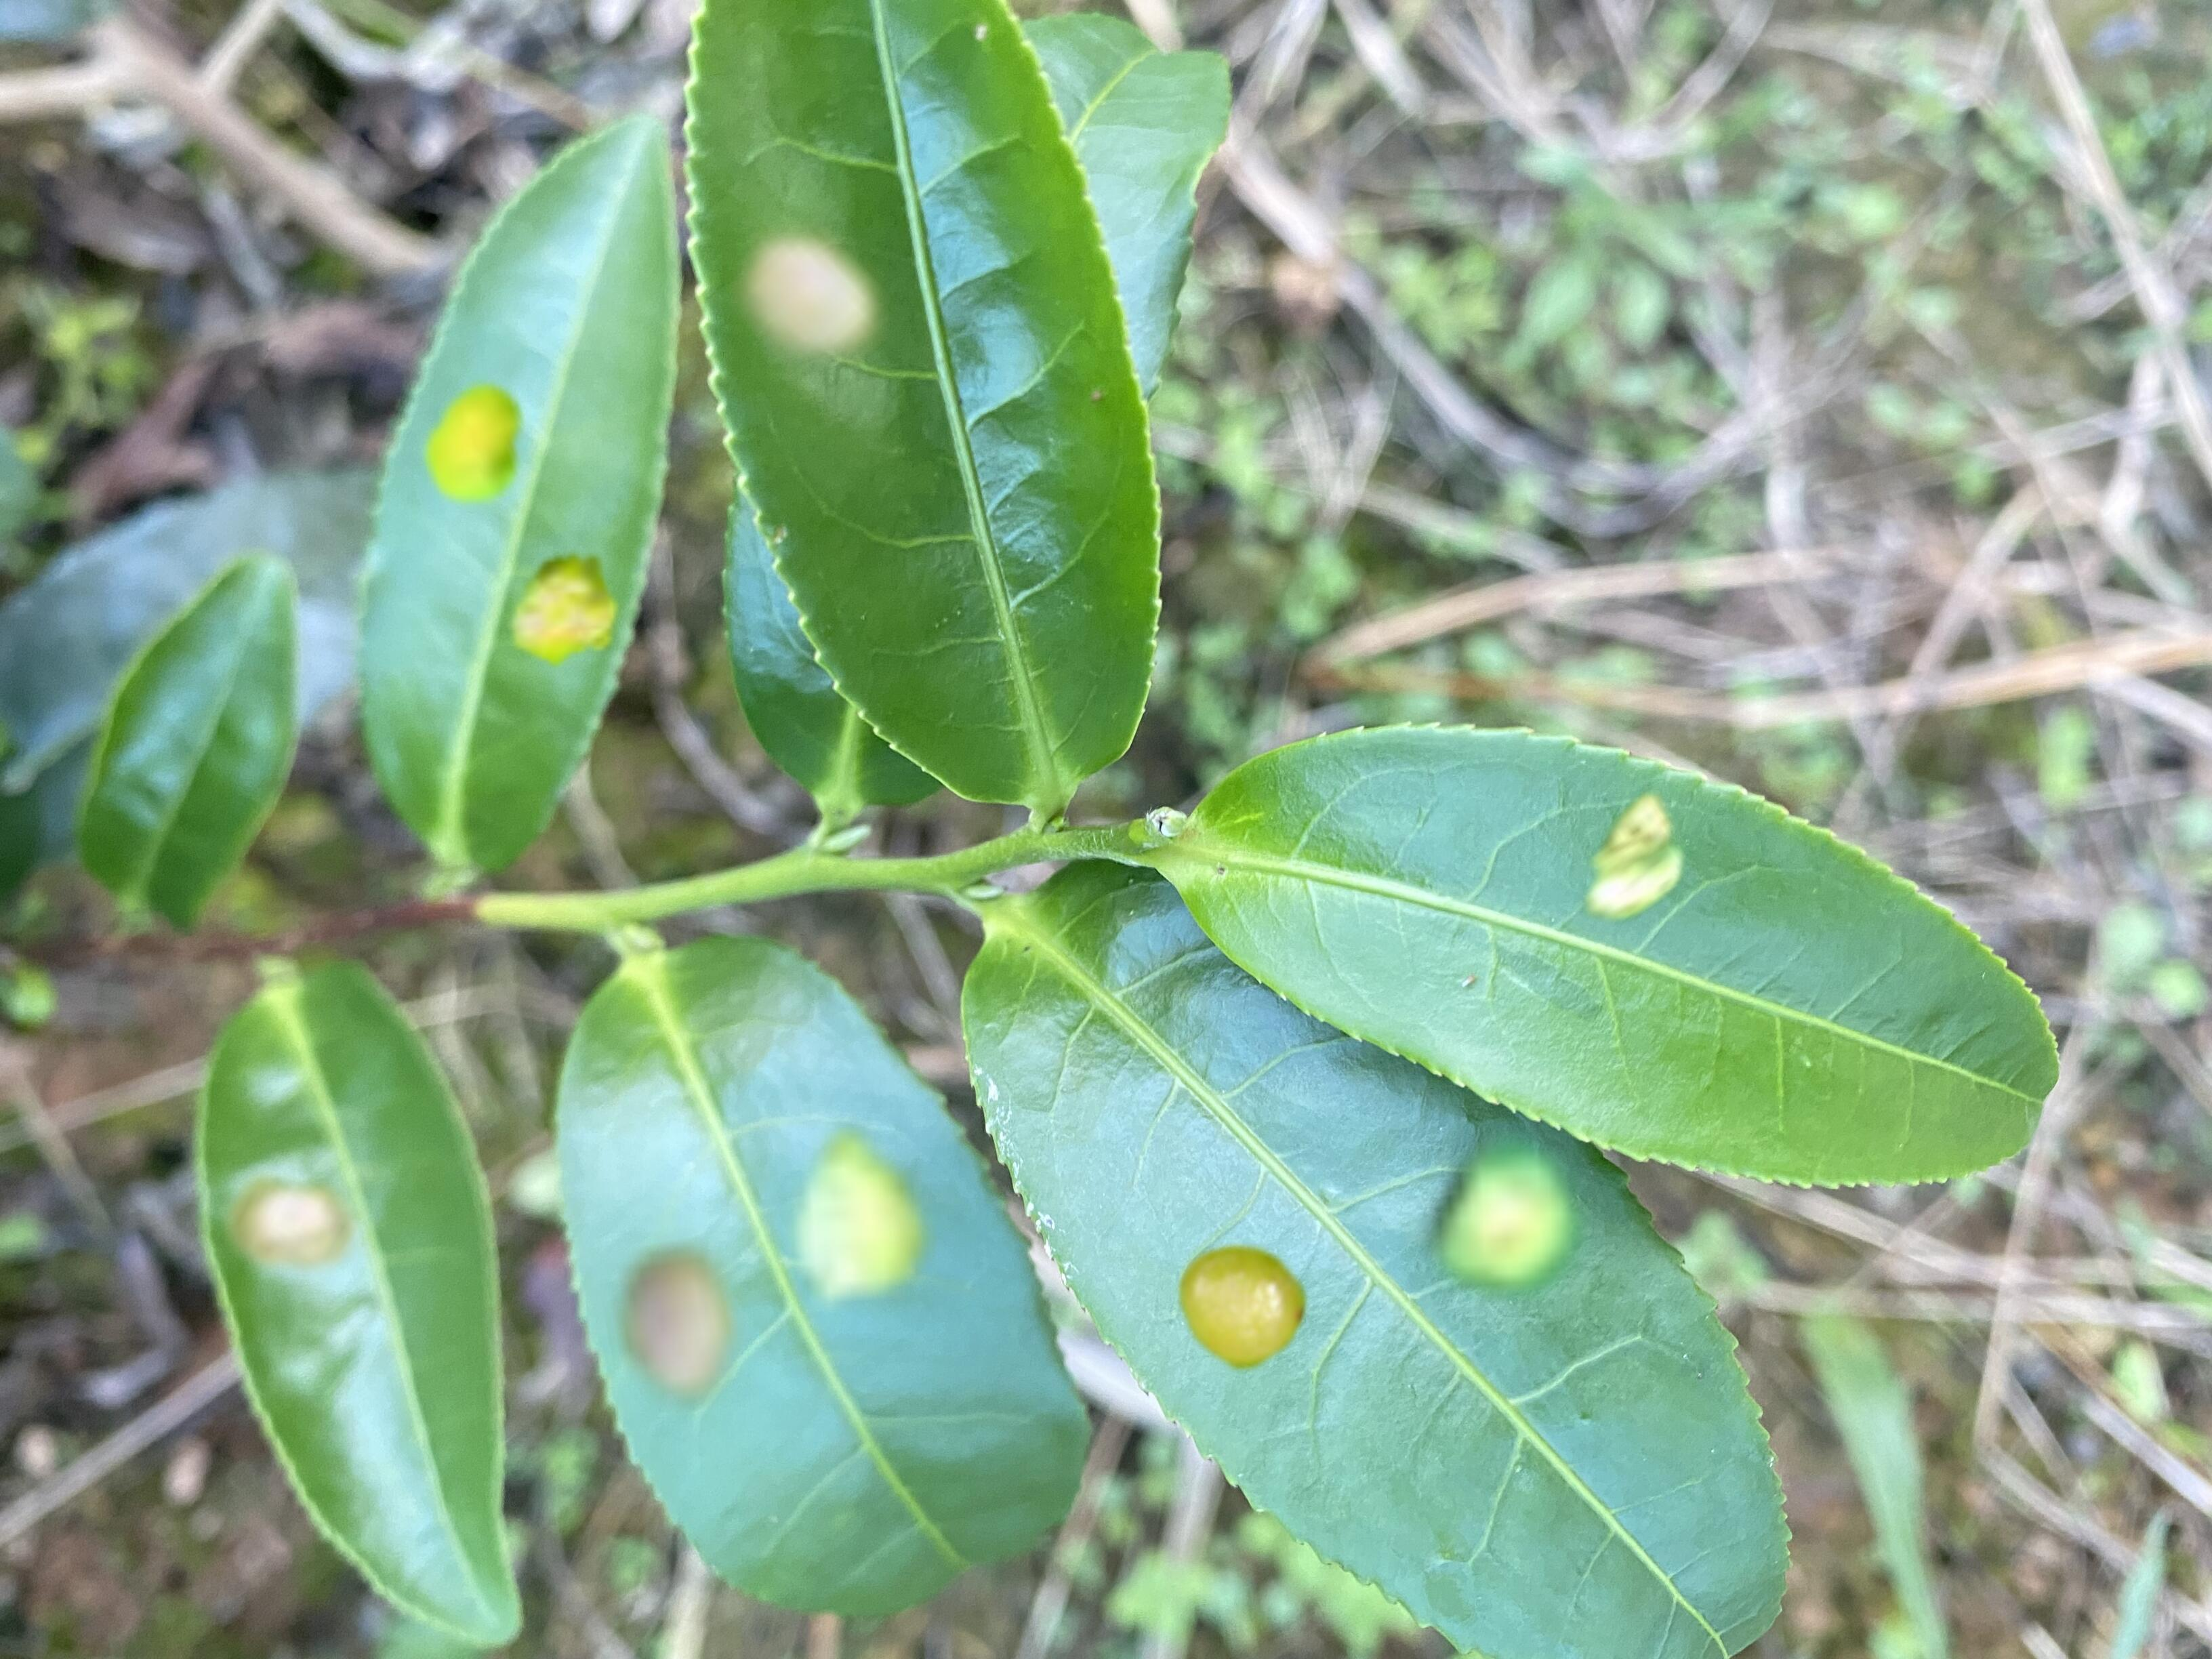chabing_high: (958, 859, 1794, 1656), (554, 934, 1096, 1622), (359, 119, 679, 877)
chabing_low: (1181, 721, 2059, 1192), (679, 5, 1163, 803), (193, 960, 526, 1643)
healthy: (80, 556, 301, 938)
